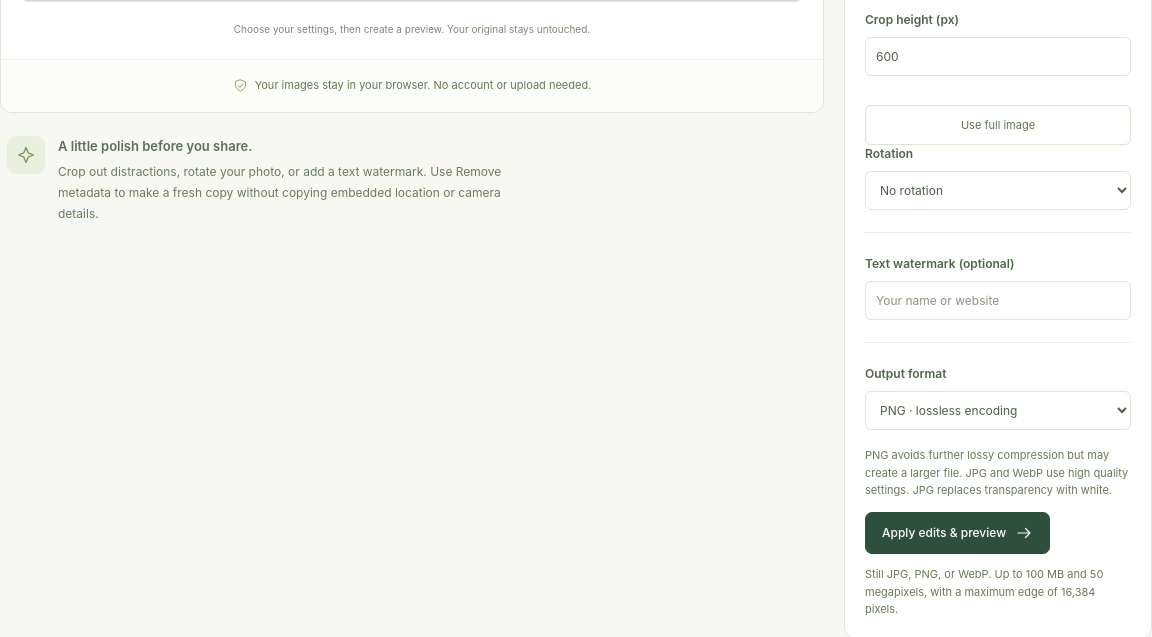
Test: cancels editing without showing a late output
The width and height of the screenshot is (1152, 637).
Earlier steps of the test are not shown.
(page scrolled)
Click the button "Apply edits & preview".
click(958, 533)  # box top-left (865, 512), bottom-right (1050, 554)
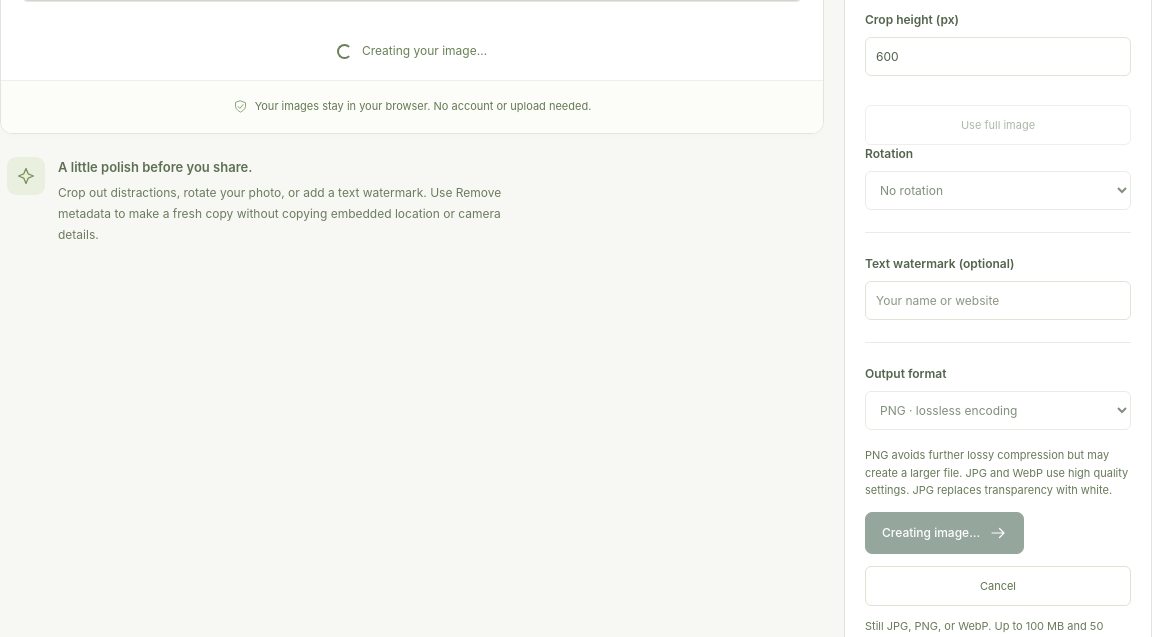
Click the button "Cancel".
click(998, 586)  # box top-left (865, 566), bottom-right (1131, 606)
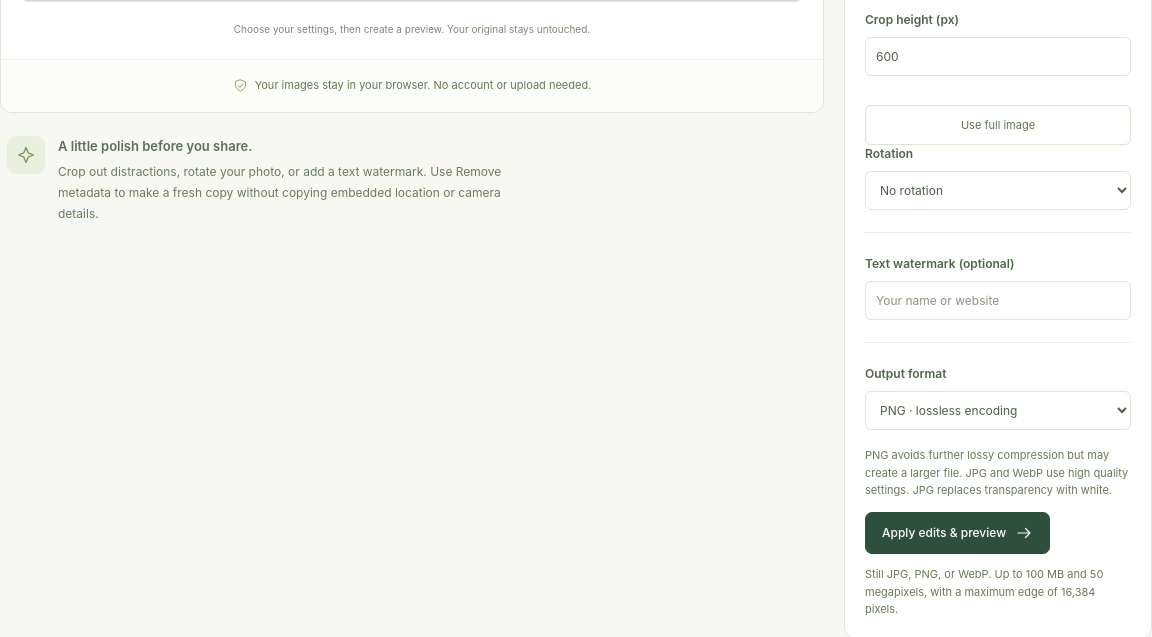
Now the button "Apply edits & preview" is enabled, box top-left (865, 512), bottom-right (1050, 554)
